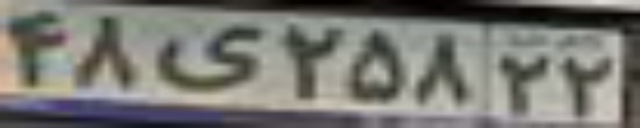2: (277, 24, 338, 101), (560, 52, 614, 116), (498, 52, 550, 113)
4: (5, 9, 66, 88)
5: (345, 28, 407, 102)
8: (411, 32, 479, 104), (71, 13, 135, 89)
he: (155, 24, 264, 93)
